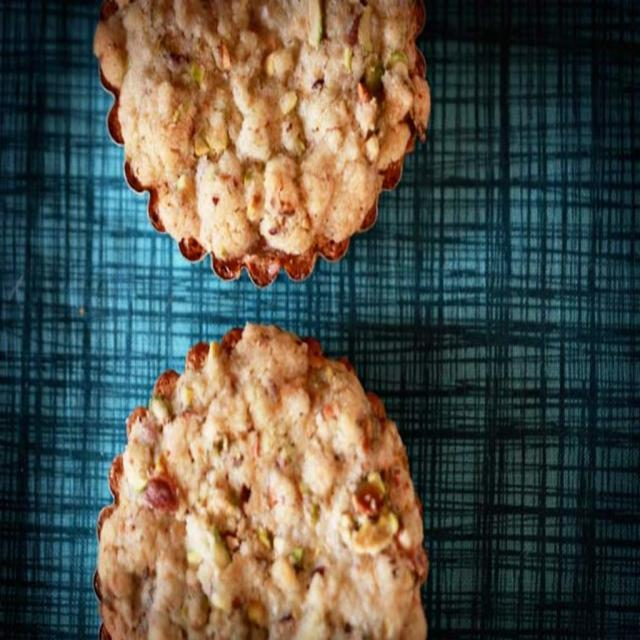Cookie: (89, 316, 432, 638), (97, 0, 435, 284)
